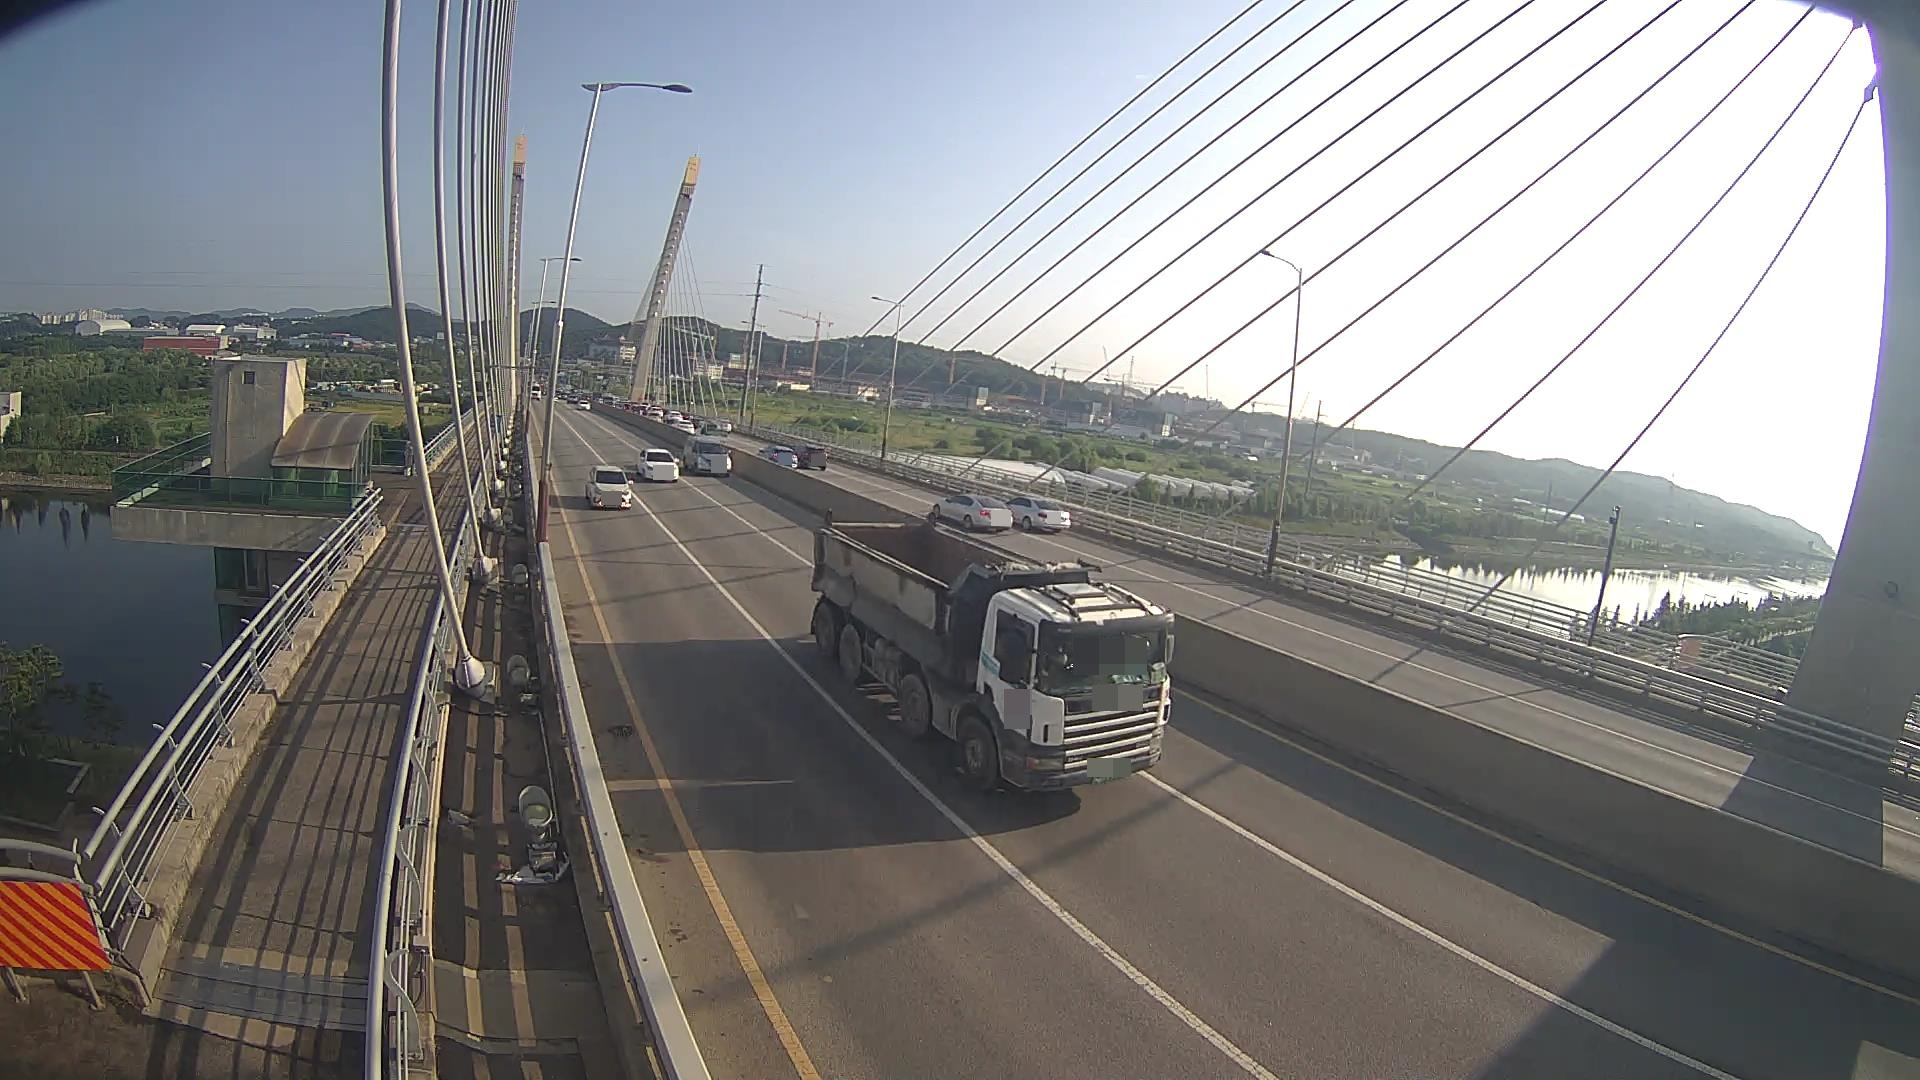정상차량: (811, 508, 1175, 794)
